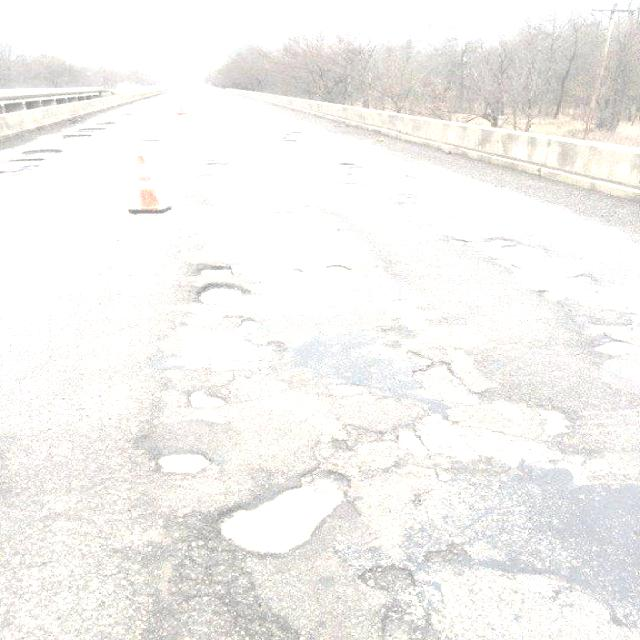Pothole: (141, 384, 640, 640), (165, 254, 283, 342)
